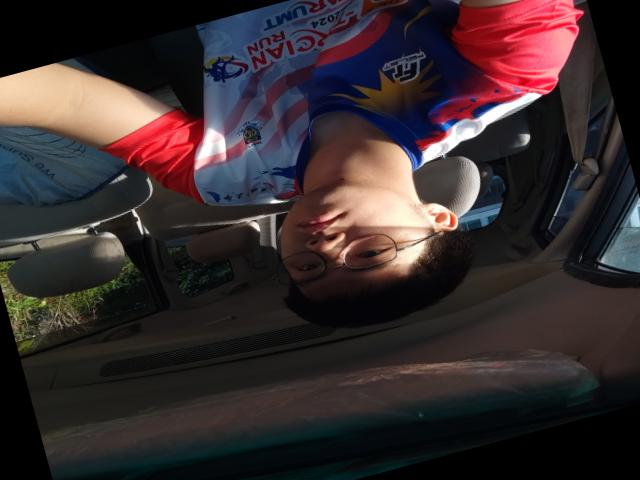eye_open: (349, 240, 392, 265), (292, 255, 328, 277)
face: (264, 167, 424, 298)
